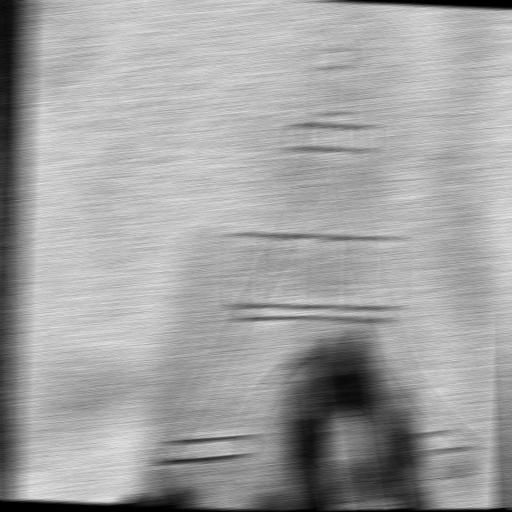eiffel-tower: (150, 10, 497, 486)
